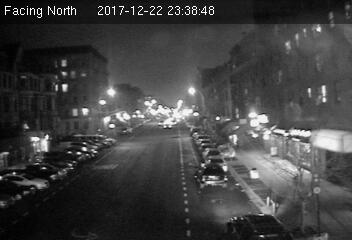car: (226, 211, 291, 240), (194, 163, 228, 190)
